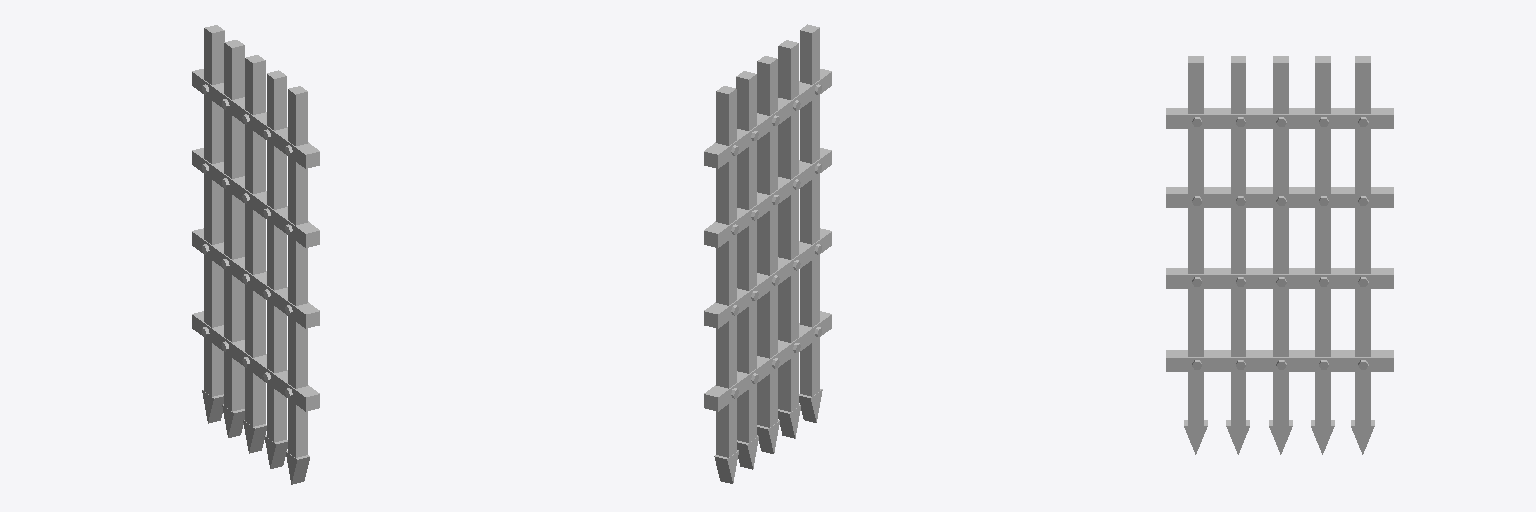
Rendered from doorway_grid.obj.
3 views of the same model, side by side, from view 1: azimuth 30°, elevation 25°; view 2: azimuth 150°, elevation 25°; view 3: azimuth 270°, elevation 25° (orthographic).
Visible parts, largest first — view 1: Cube_Cube.001; view 2: Cube_Cube.001; view 3: Cube_Cube.001.
Part boxes in pixels (left/top/right/bottom): Cube_Cube.001: left=192, top=25, right=319, bottom=484; Cube_Cube.001: left=704, top=24, right=831, bottom=483; Cube_Cube.001: left=1166, top=56, right=1393, bottom=454.
Bounding box in the file's own units: 0.0763 × 1.36 × 0.7159.